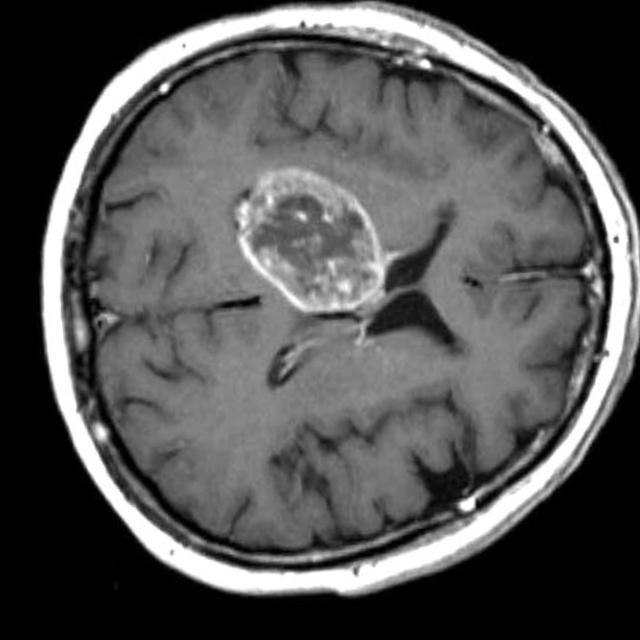Tumor: (231, 169, 381, 316)
